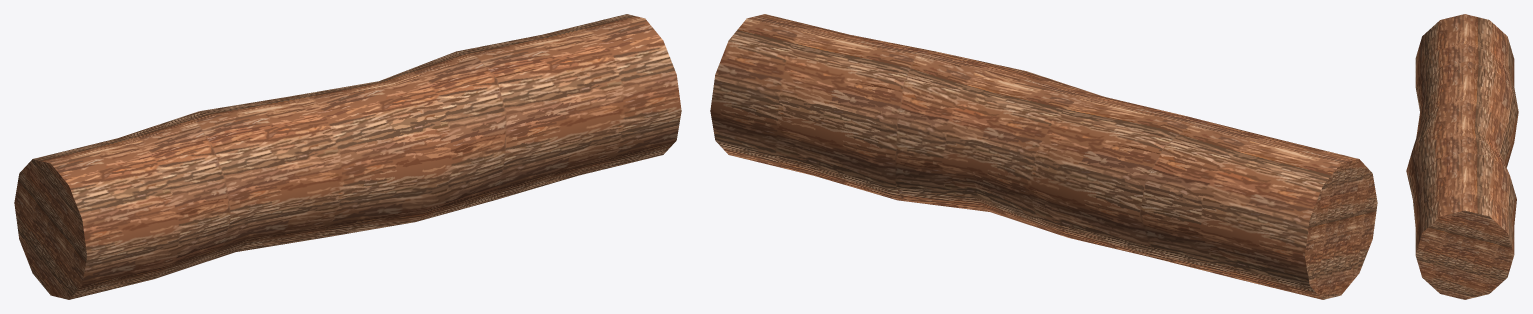
The model's file is tronco_arvore.fbx.
3 views of the same model, side by side, from view 1: azimuth 30°, elevation 25°; view 2: azimuth 150°, elevation 25°; view 3: azimuth 270°, elevation 25° (orthographic). The views are drawn at different scales.
Parts seen in each view (by area): view 1: tronco_arvore; view 2: tronco_arvore; view 3: tronco_arvore.
Part boxes in pixels (x1,y1,x2,y2): tronco_arvore: [14, 14, 681, 299]; tronco_arvore: [710, 14, 1377, 299]; tronco_arvore: [1406, 14, 1518, 299].
Size of the model in its own units: 733 by 165 by 177.
